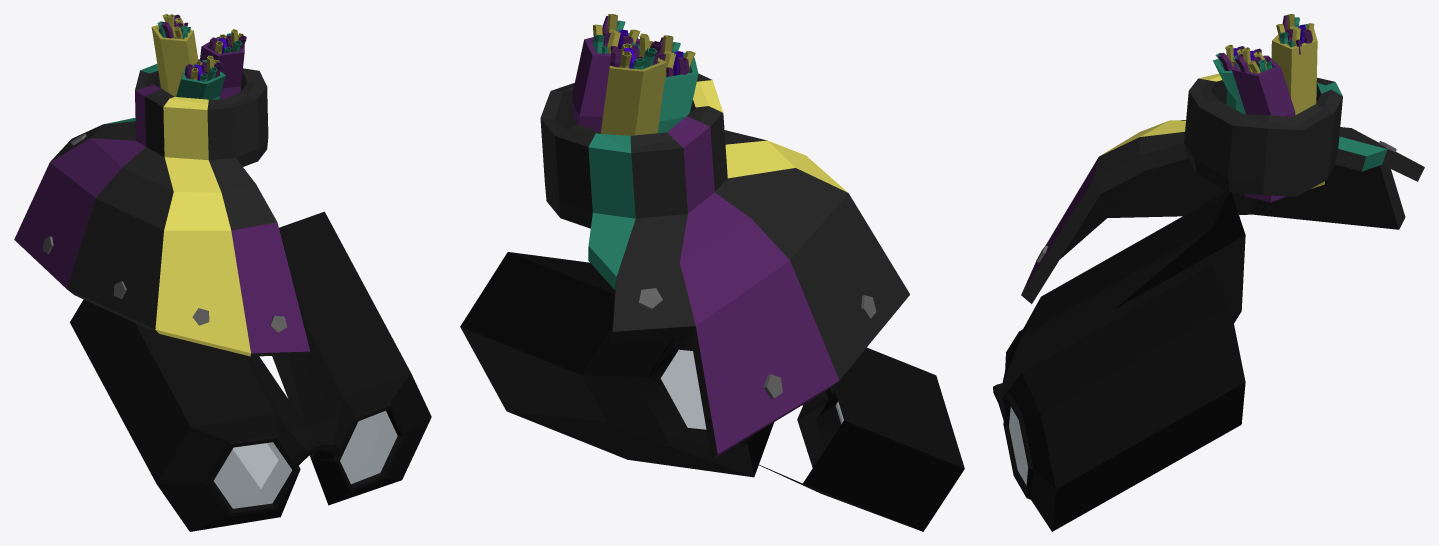
File: Cientifico Casco.fbx
The picture shows the model from 3 angles, left to right: view 1: azimuth 30°, elevation 25°; view 2: azimuth 150°, elevation 25°; view 3: azimuth 270°, elevation 25°; orthographic projection. The views are drawn at different scales.
Parts seen in each view (by area): view 1: Gafas, Cientifico Casco, Cylinder, Cylinder.001, Cylinder.002; view 2: Cientifico Casco, Gafas, Cylinder, Cylinder.001, Cylinder.002; view 3: Gafas, Cientifico Casco, Cylinder.001, Cylinder, Cylinder.002.
Boxes of the visible parts, box(x1,y1,x2,y2) form: Gafas: box(70, 211, 431, 531); Cientifico Casco: box(14, 59, 310, 356); Cylinder: box(151, 25, 198, 96); Cylinder.001: box(200, 37, 244, 99); Cylinder.002: box(176, 67, 225, 99); Cientifico Casco: box(540, 73, 909, 459); Gafas: box(460, 252, 964, 531); Cylinder: box(601, 58, 666, 135); Cylinder.001: box(572, 37, 640, 132); Cylinder.002: box(657, 57, 698, 133); Gafas: box(993, 191, 1245, 531); Cientifico Casco: box(1021, 73, 1424, 303); Cylinder.001: box(1232, 55, 1295, 202); Cylinder: box(1271, 28, 1324, 188); Cylinder.002: box(1213, 59, 1245, 114).
Size of the model in its own units: 179 by 257 by 222.
